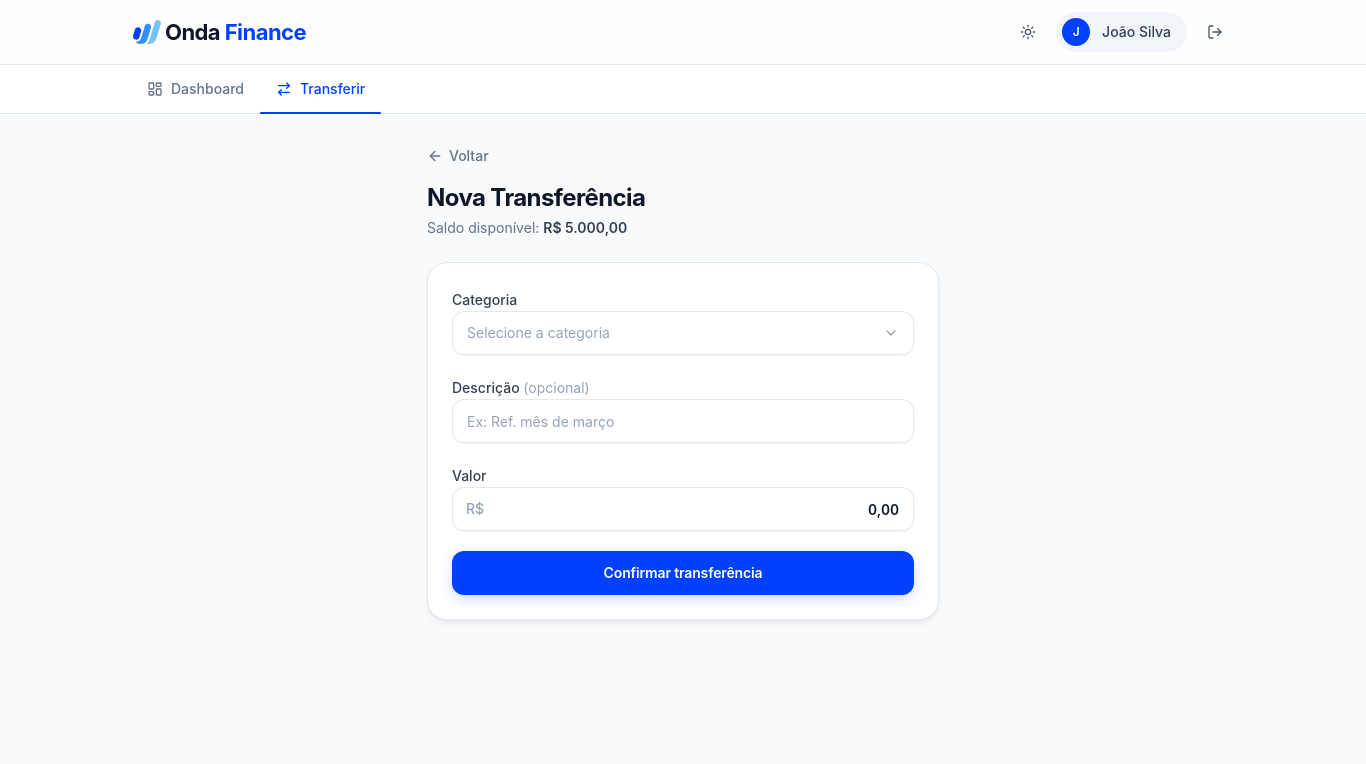
Test: Transfer Page › should show receipt after valid transfer
This screenshot has width=1366, height=764.
Note: Select category
Click the dropdown labelled "Selecione a categoria": click(538, 332) top-left (452, 311), bottom-right (914, 355)
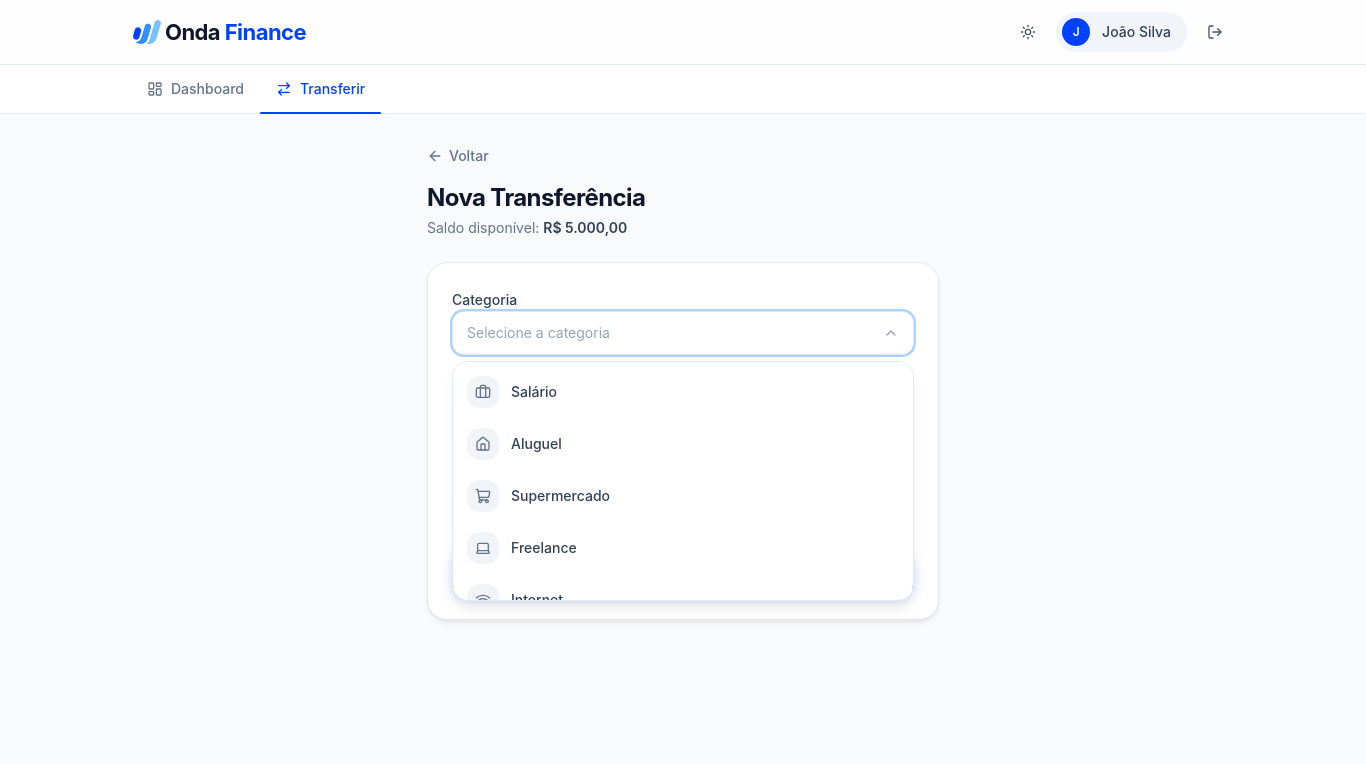
Click the option "Aluguel": click(514, 444) top-left (467, 428), bottom-right (562, 460)
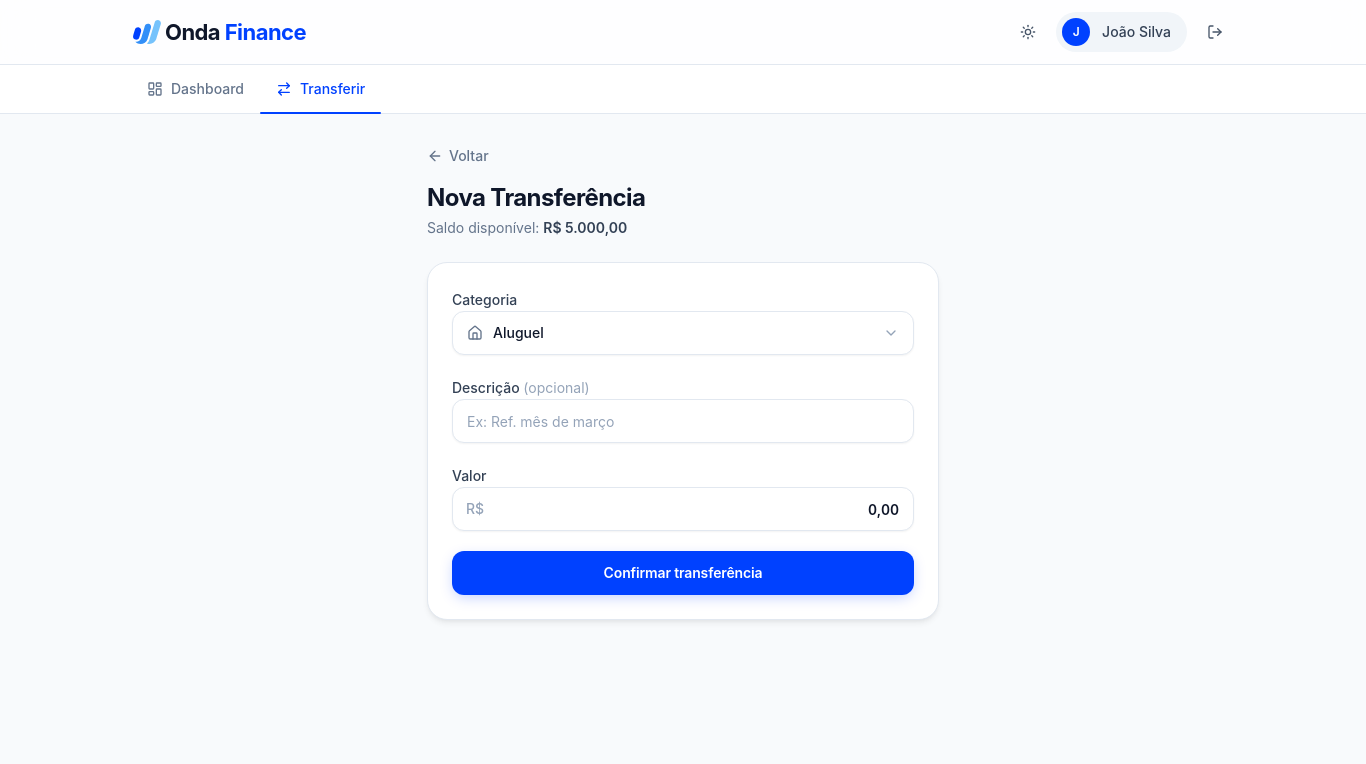
Note: Enter amount
Click the field labelled "Valor": click(683, 509) top-left (452, 487), bottom-right (914, 531)
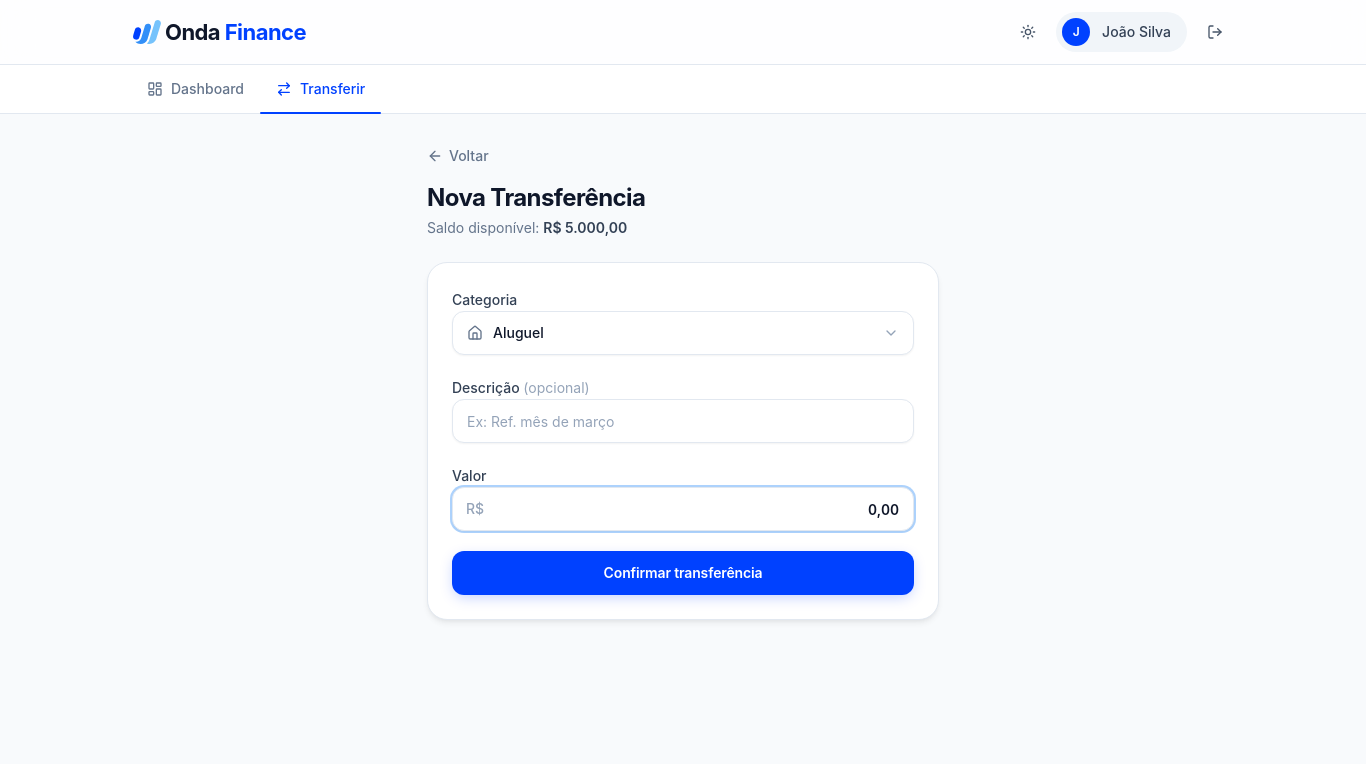
Type keys "50000"
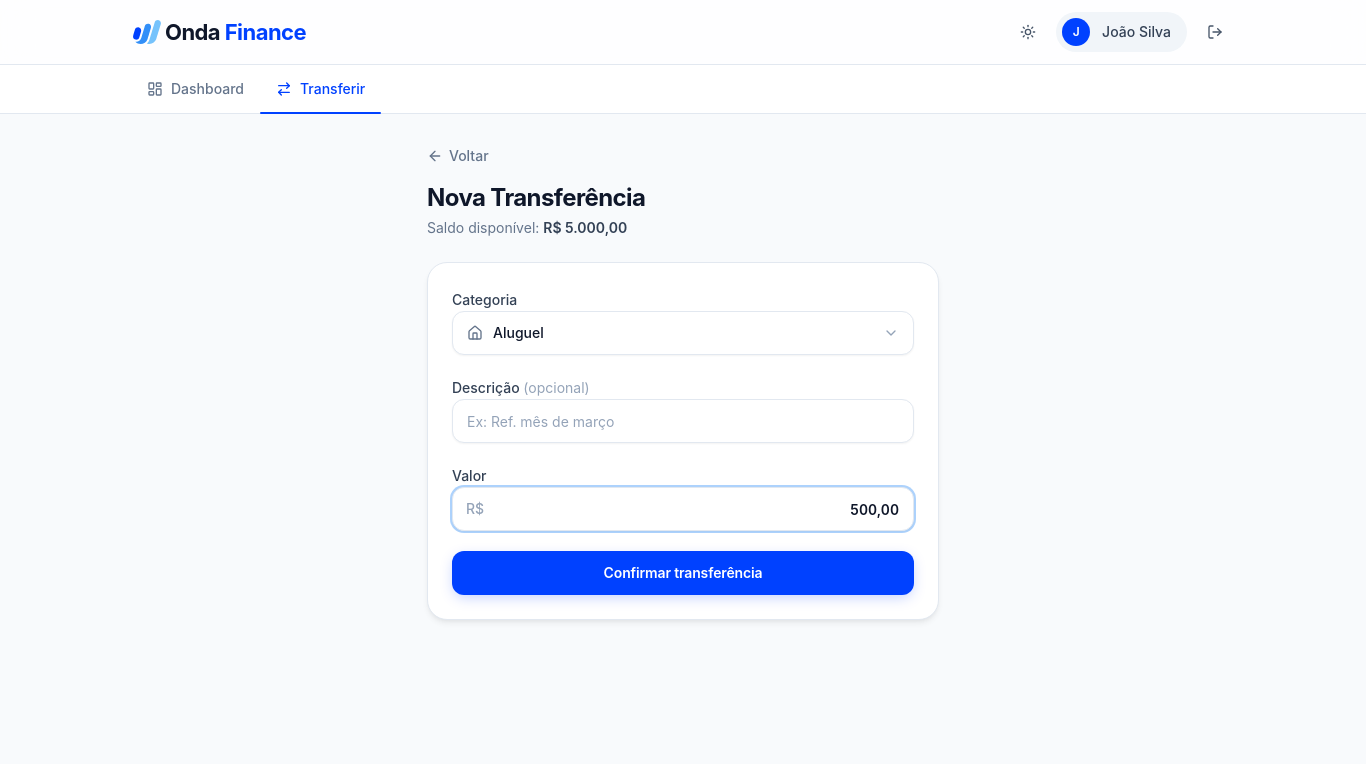
Click the button "Confirmar transferência": click(683, 573) top-left (452, 551), bottom-right (914, 595)
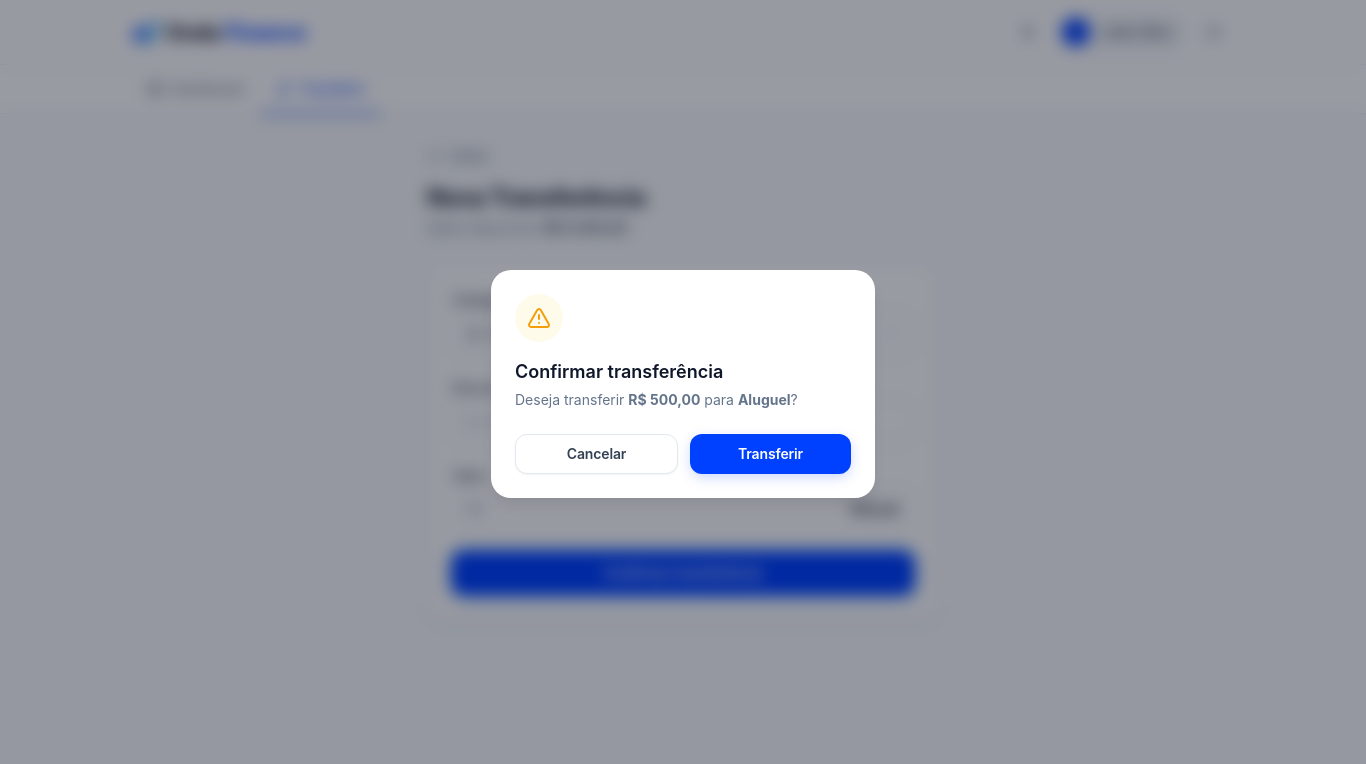
Check: the button "Transferir" is shown
Click the button "Transferir": click(770, 454) top-left (690, 434), bottom-right (851, 474)
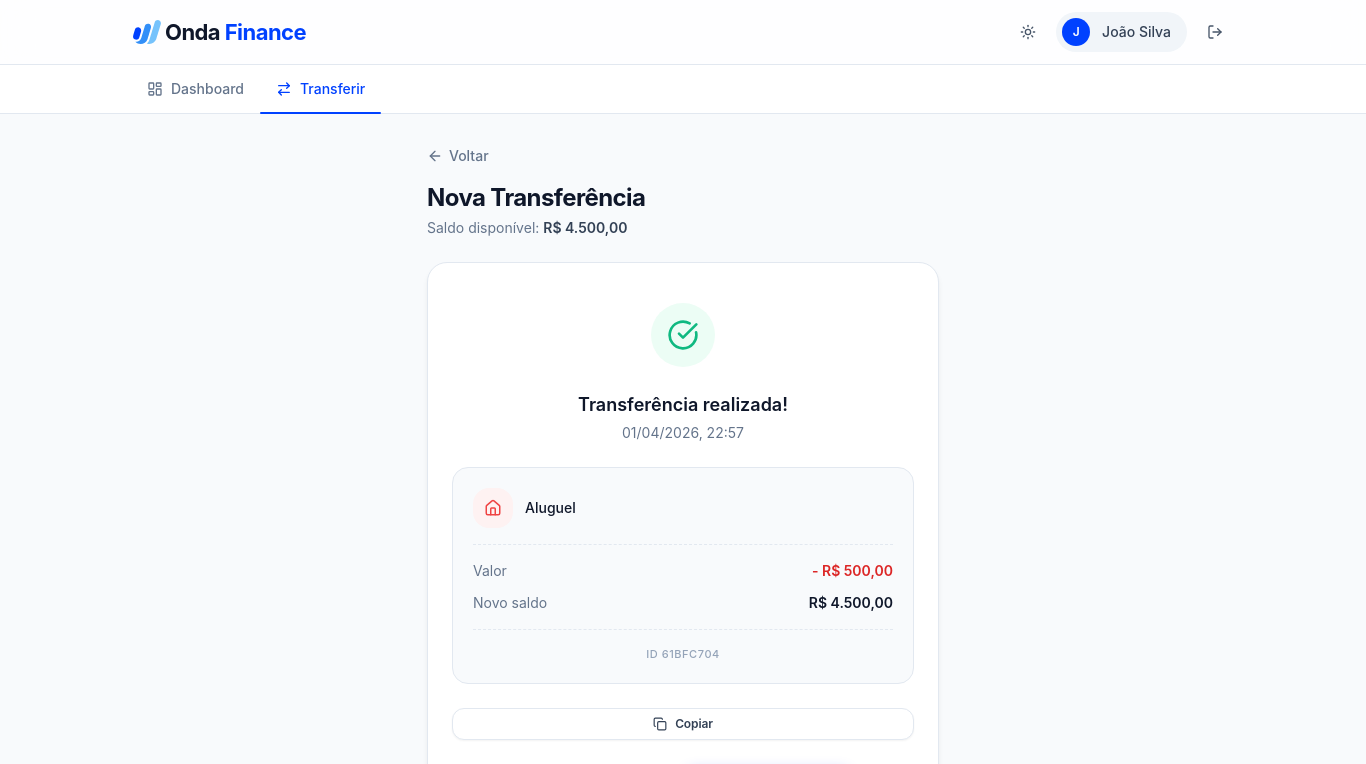
Check: the text "Aluguel" is shown, box top-left (525, 498), bottom-right (576, 518)
Check: the text "Transferência realizada!" is shown, box top-left (578, 391), bottom-right (788, 419)
